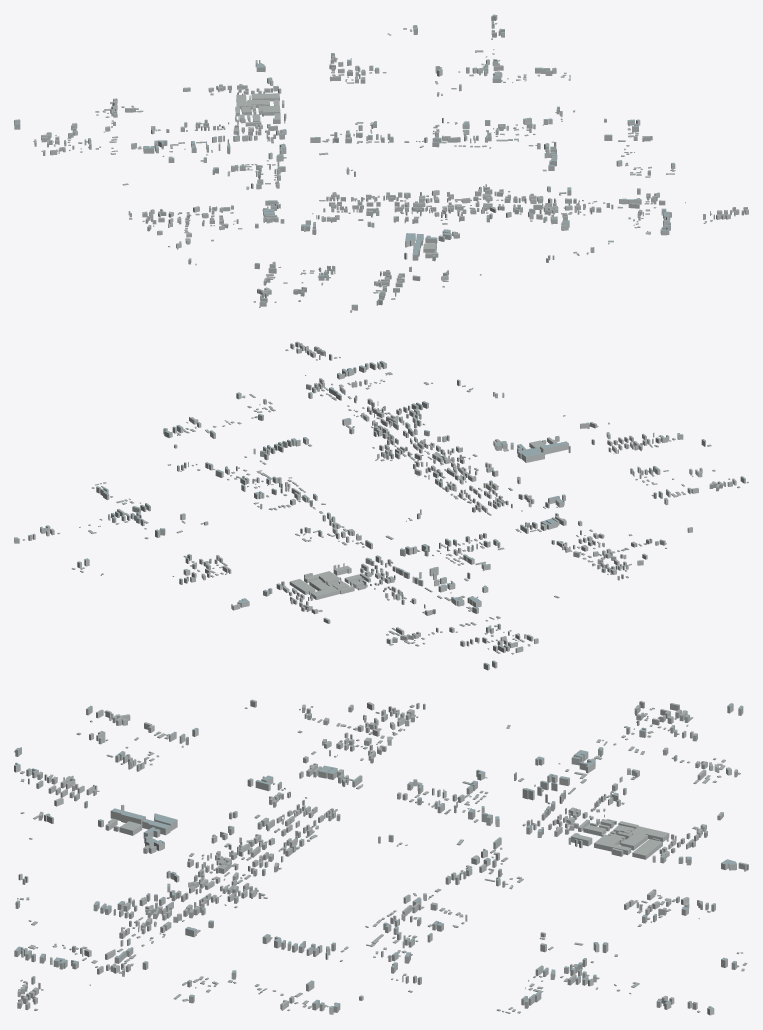
3 views of the same model, one above another, from view 1: azimuth 30°, elevation 25°; view 2: azimuth 150°, elevation 25°; view 3: azimuth 270°, elevation 25° (orthographic). The views are drawn at different scales.
Visible parts, largest first — view 1: 上海全域建筑分块 · mapped building neighborhood; view 2: 上海全域建筑分块 · mapped building neighborhood; view 3: 上海全域建筑分块 · mapped building neighborhood.
Part boxes in pixels (left/top/right/bottom): 上海全域建筑分块 · mapped building neighborhood: left=14, top=14, right=748, bottom=312; 上海全域建筑分块 · mapped building neighborhood: left=14, top=341, right=748, bottom=670; 上海全域建筑分块 · mapped building neighborhood: left=14, top=699, right=748, bottom=1015.
Size of the model in its own units: 2095 by 27.79 by 2096.
